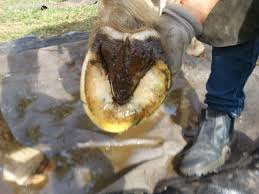horsesole: (80, 43, 172, 134)
